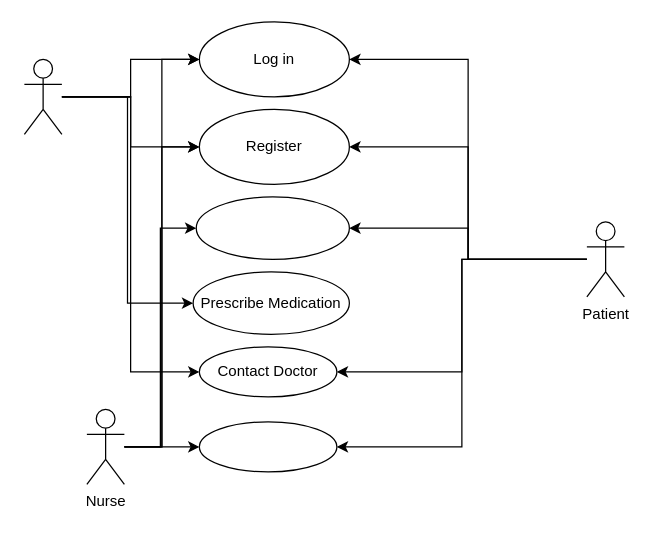
Some shapes in this 650 by 533 pixel diagram are drawn without their labels. Here are the shapes that lost their labels. From the top down, the centre of each, then its label:
At (x=42, y=96): "Doctor".
At (x=272, y=227): "Look at ED Loads".
At (x=267, y=446): "Virtual Triage".
